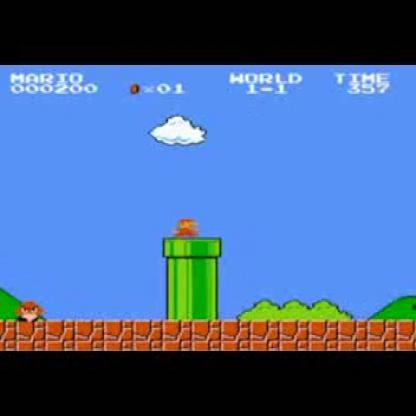Goomba: (15, 299, 44, 322)
